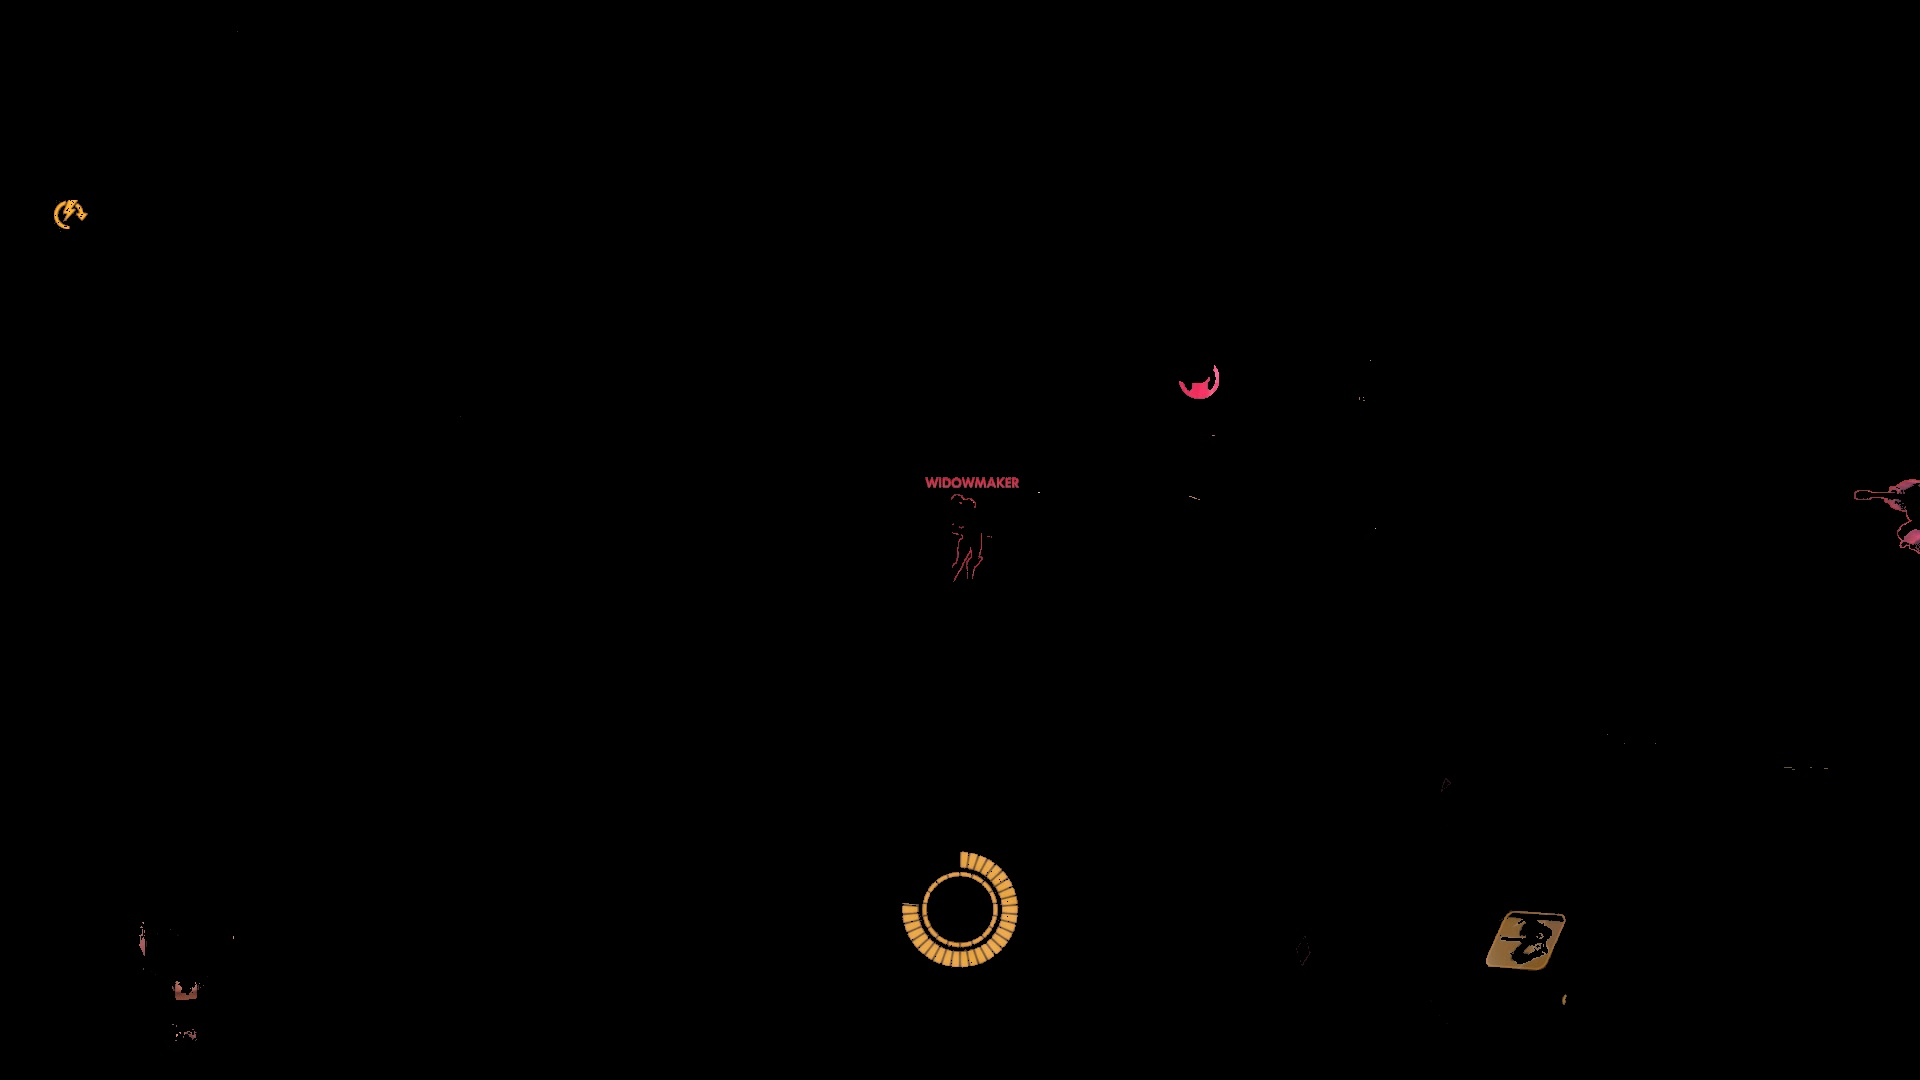widowmaker: (951, 495, 985, 589)
